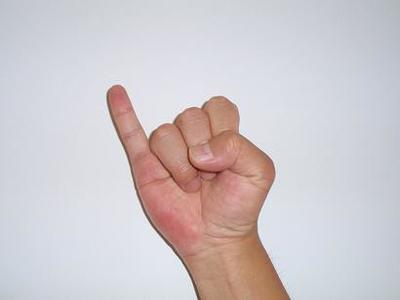closedhandfront: (131, 96, 285, 246)
mindinho: (98, 81, 164, 174)
